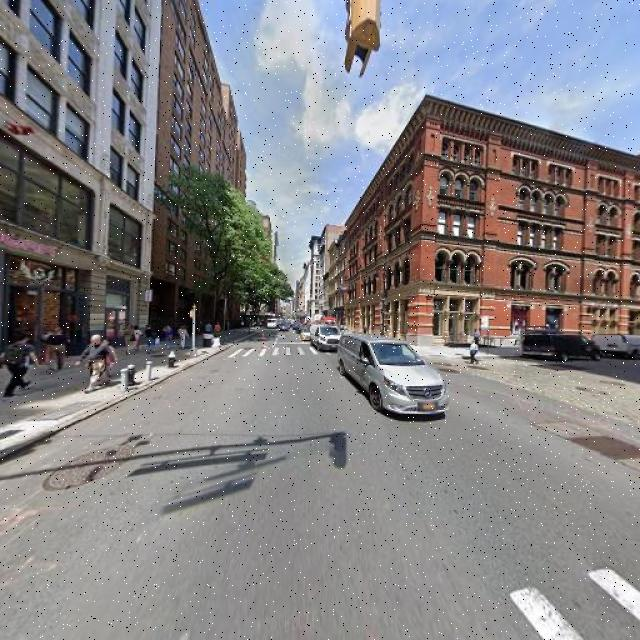Building: (343, 99, 640, 353), (1, 1, 149, 380)
